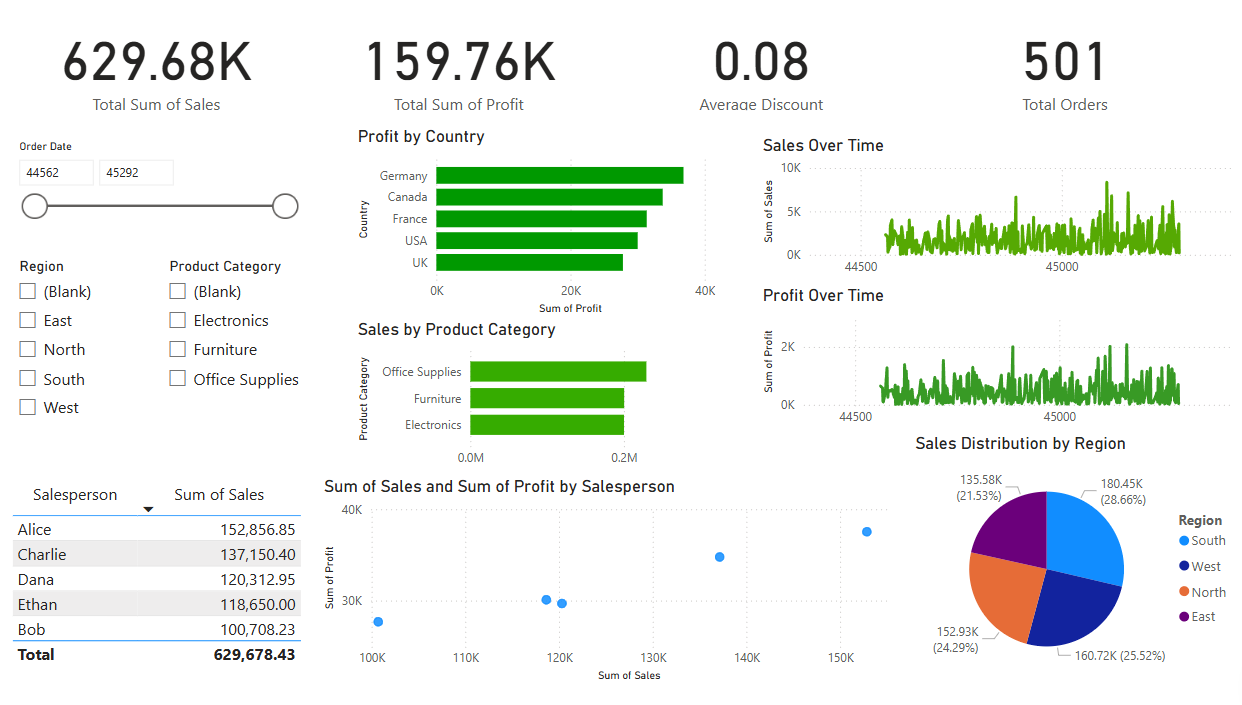

The page's visual inventory and layout, read from the dashboard file:
{"tool":"powerbi","page":{"name":"Page 1","canvas":[1280,720],"ordinal":0},"visuals":[{"type":"card","fields":{"Values":["Sum(Retail_Sales_Data.Sales)"]},"box":[17.1,20,300,100],"z":0},{"type":"card","fields":{"Values":["Sum(Retail_Sales_Data.Profit)"]},"box":[320,20,300,100],"z":1},{"type":"card","fields":{"Values":["Avg(Retail_Sales_Data.Discount)"]},"box":[622.9,20,300,100],"z":2},{"type":"card","fields":{"Values":["Count(Retail_Sales_Data.Order ID)"]},"box":[925.7,20,300,100],"z":3},{"type":"barChart","title":"Sales by Product Category","fields":{"Category":["Retail_Sales_Data.Product Category"],"Y":["Sum(Retail_Sales_Data.Sales)"]},"box":[364.3,324.3,367.1,157.1],"z":4},{"type":"barChart","title":"Profit by Country","fields":{"Category":["Retail_Sales_Data.Country"],"Y":["Sum(Retail_Sales_Data.Profit)"]},"box":[364.3,131.4,367.1,192.9],"z":5},{"type":"pieChart","title":"Sales Distribution by Region","fields":{"Category":["Retail_Sales_Data.Region"],"Y":["Sum(Retail_Sales_Data.Sales)"]},"box":[921.4,437.1,337.1,254.3],"z":6},{"type":"lineChart","title":"Sales Over Time","fields":{"Category":["Retail_Sales_Data.Order Date"],"Y":["Sum(Retail_Sales_Data.Sales)"]},"box":[768.6,140,487.1,150],"z":7},{"type":"lineChart","title":"Profit Over Time","fields":{"Category":["Retail_Sales_Data.Order Date"],"Y":["Sum(Retail_Sales_Data.Profit)"]},"box":[768.6,290,487.1,150],"z":8},{"type":"tableEx","fields":{"Values":["Retail_Sales_Data.Salesperson","Sum(Retail_Sales_Data.Sales)"]},"box":[17.1,481.4,302.9,210],"z":9},{"type":"scatterChart","fields":{"X":["Sum(Retail_Sales_Data.Sales)"],"Y":["Sum(Retail_Sales_Data.Profit)"],"Category":["Retail_Sales_Data.Salesperson"]},"box":[330,481.4,587.1,210],"z":10},{"type":"slicer","fields":{"Values":["Retail_Sales_Data.Region"]},"box":[17.1,257.1,150,180],"z":11},{"type":"slicer","fields":{"Values":["Retail_Sales_Data.Product Category"]},"box":[167.1,257.1,150,180],"z":12},{"type":"slicer","fields":{"Values":["Retail_Sales_Data.Order Date"]},"box":[17.1,140,300,112.9],"z":13}]}

Visuals, with their boxes in screenshot pixels (x1, y1, x2, y2), scaled from the page's 1280x720 canvas onto the 1242x705 screenshot:
card - Sum(Retail_Sales_Data.Sales): detection(17, 20, 308, 118)
card - Sum(Retail_Sales_Data.Profit): detection(310, 20, 602, 118)
card - Avg(Retail_Sales_Data.Discount): detection(604, 20, 896, 118)
card - Count(Retail_Sales_Data.Order ID): detection(898, 20, 1189, 118)
"Sales by Product Category" barChart: detection(353, 318, 710, 471)
"Profit by Country" barChart: detection(353, 129, 710, 318)
"Sales Distribution by Region" pieChart: detection(894, 428, 1221, 677)
"Sales Over Time" lineChart: detection(746, 137, 1218, 284)
"Profit Over Time" lineChart: detection(746, 284, 1218, 431)
tableEx - Retail_Sales_Data.Salesperson x Sum(Retail_Sales_Data.Sales): detection(17, 471, 310, 677)
scatterChart - Sum(Retail_Sales_Data.Sales) x Sum(Retail_Sales_Data.Profit): detection(320, 471, 890, 677)
slicer - Retail_Sales_Data.Region: detection(17, 252, 162, 428)
slicer - Retail_Sales_Data.Product Category: detection(162, 252, 308, 428)
slicer - Retail_Sales_Data.Order Date: detection(17, 137, 308, 248)
